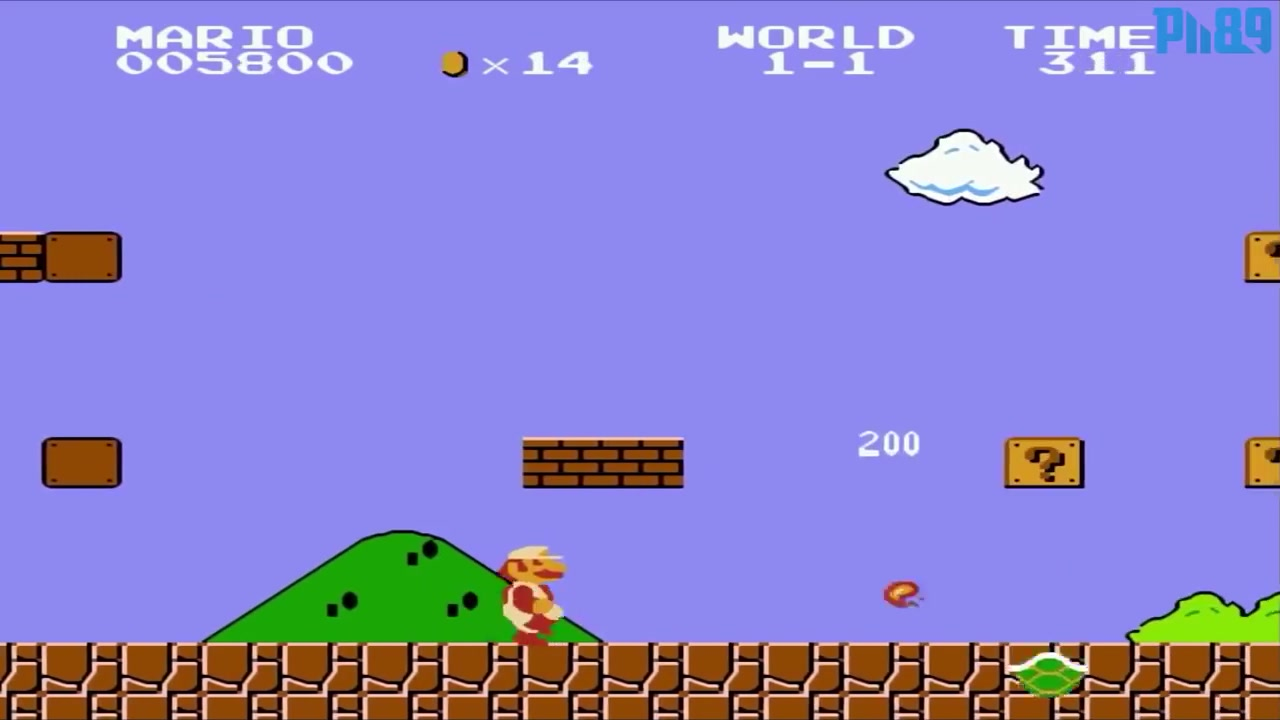mario: (493, 540, 570, 643)
